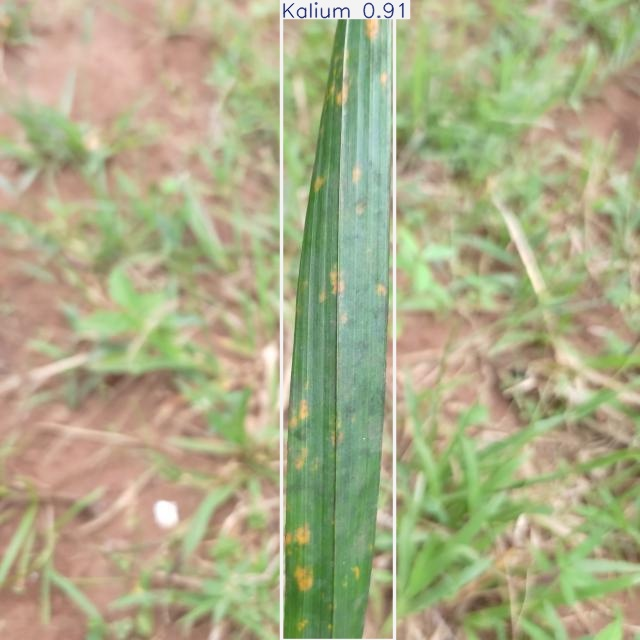Kalium: (281, 0, 394, 640)
